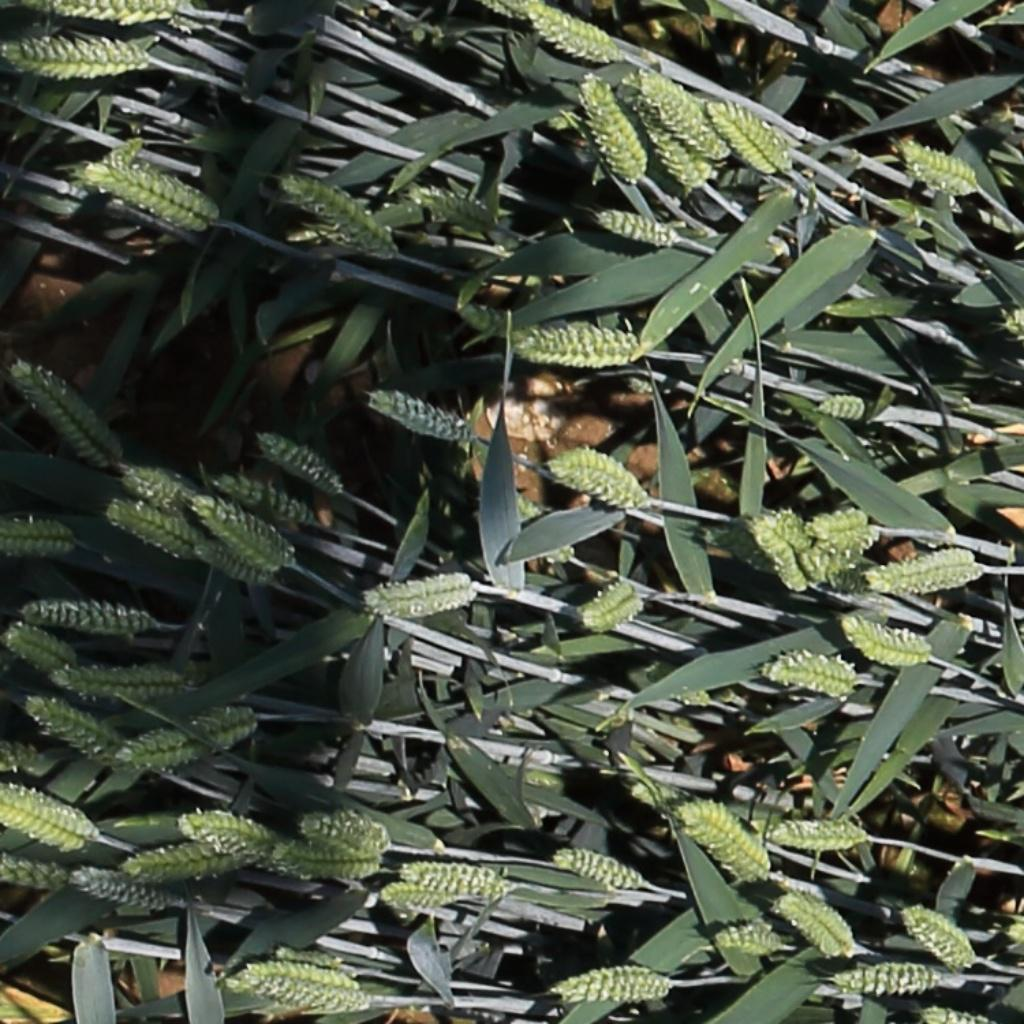0-0: (13, 361, 117, 469), (114, 830, 276, 896), (80, 162, 229, 228), (282, 170, 393, 251), (117, 707, 264, 768), (621, 80, 703, 188), (675, 787, 767, 883), (221, 957, 376, 1012), (577, 70, 647, 181), (546, 445, 657, 514), (516, 321, 648, 377), (705, 99, 792, 177), (0, 39, 149, 84), (769, 890, 865, 959), (861, 549, 986, 600), (652, 89, 736, 163), (37, 666, 190, 706), (758, 647, 864, 704), (25, 697, 117, 760), (272, 833, 390, 881), (252, 431, 339, 495), (0, 786, 90, 847), (191, 498, 285, 555), (521, 4, 614, 61), (67, 864, 177, 912), (749, 513, 811, 598), (69, 135, 151, 199), (14, 597, 152, 635), (367, 390, 469, 441), (544, 967, 673, 1004), (210, 475, 311, 522), (765, 814, 875, 857), (902, 906, 976, 969), (296, 803, 395, 849), (394, 860, 507, 899), (178, 808, 278, 851), (106, 506, 192, 554), (839, 619, 929, 664), (199, 516, 275, 567), (551, 851, 644, 892), (592, 207, 685, 248), (830, 961, 939, 995), (408, 184, 492, 228), (637, 72, 708, 124), (49, 1, 196, 26), (898, 139, 977, 185), (809, 526, 875, 580), (1, 513, 76, 557), (0, 625, 75, 666), (193, 543, 264, 585), (378, 880, 468, 913), (367, 574, 472, 602), (578, 582, 640, 626), (118, 466, 181, 509), (364, 591, 471, 615), (804, 505, 879, 539), (711, 920, 779, 956), (1, 857, 70, 886), (815, 391, 869, 423), (921, 1004, 989, 1024), (1008, 305, 1024, 357)
